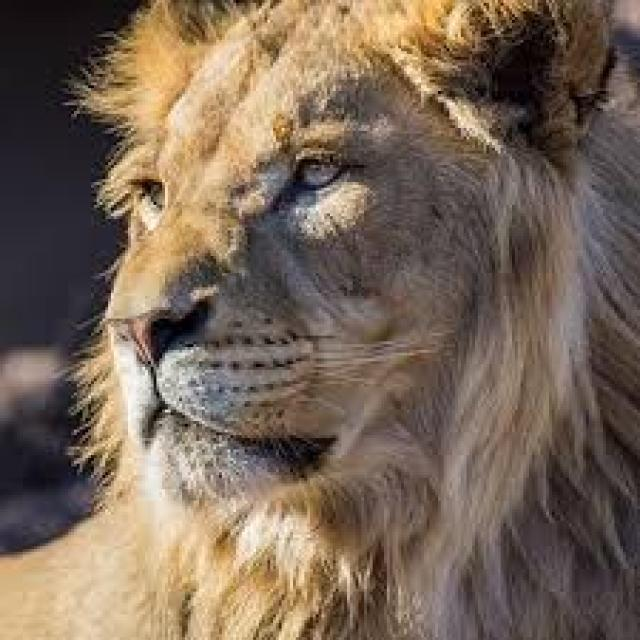Lion: (73, 0, 627, 630)
